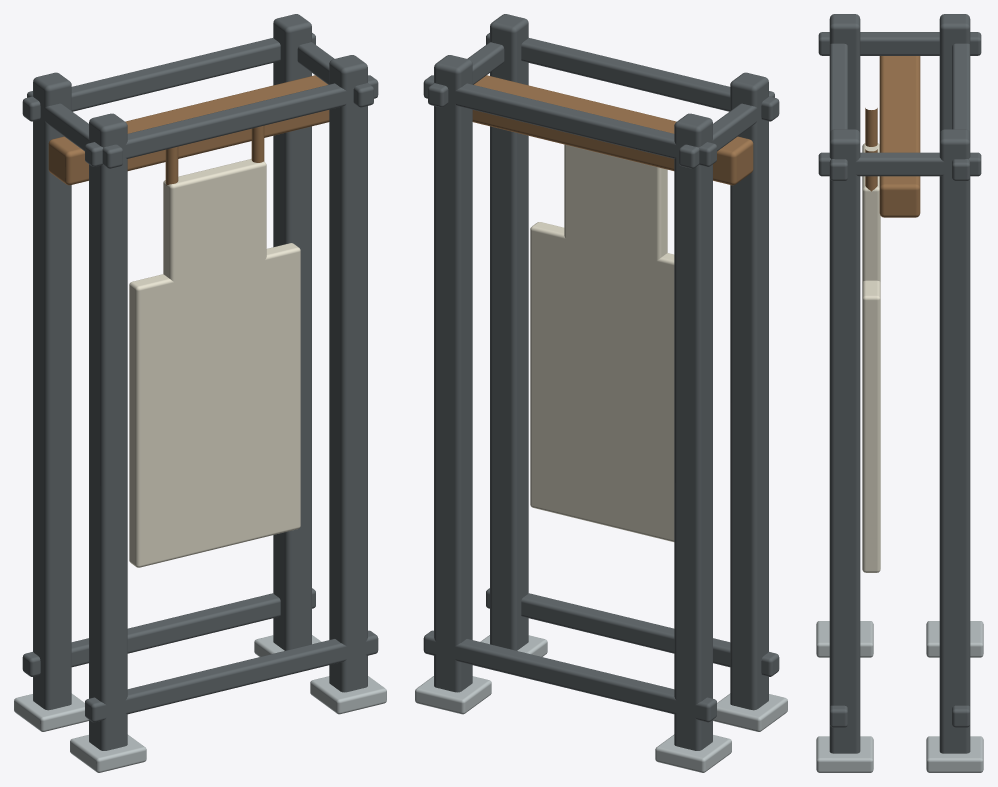
The model's file is glassblowing-studio-and-gallery-apron-peg-rail-d1164740__29614.glb.
3 views of the same model, side by side, from view 1: azimuth 30°, elevation 25°; view 2: azimuth 150°, elevation 25°; view 3: azimuth 270°, elevation 25° (orthographic).
Parts seen in each view (by area): view 1: apron-peg-rail; view 2: apron-peg-rail; view 3: apron-peg-rail.
Boxes of the visible parts, bbox=[...] form: apron-peg-rail: bbox=[14, 14, 386, 772]; apron-peg-rail: bbox=[415, 14, 787, 772]; apron-peg-rail: bbox=[816, 14, 983, 772].
Bounding box in the file's own units: 0.81 × 1.7 × 0.41.
